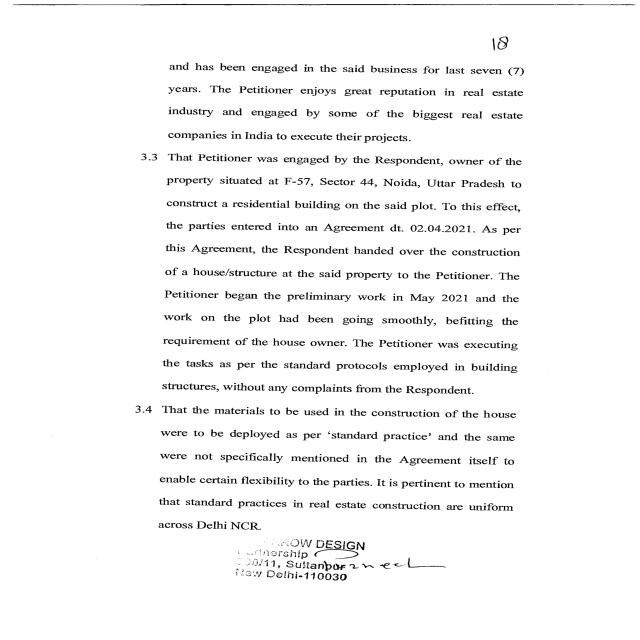page-number: (404, 0, 640, 61)
